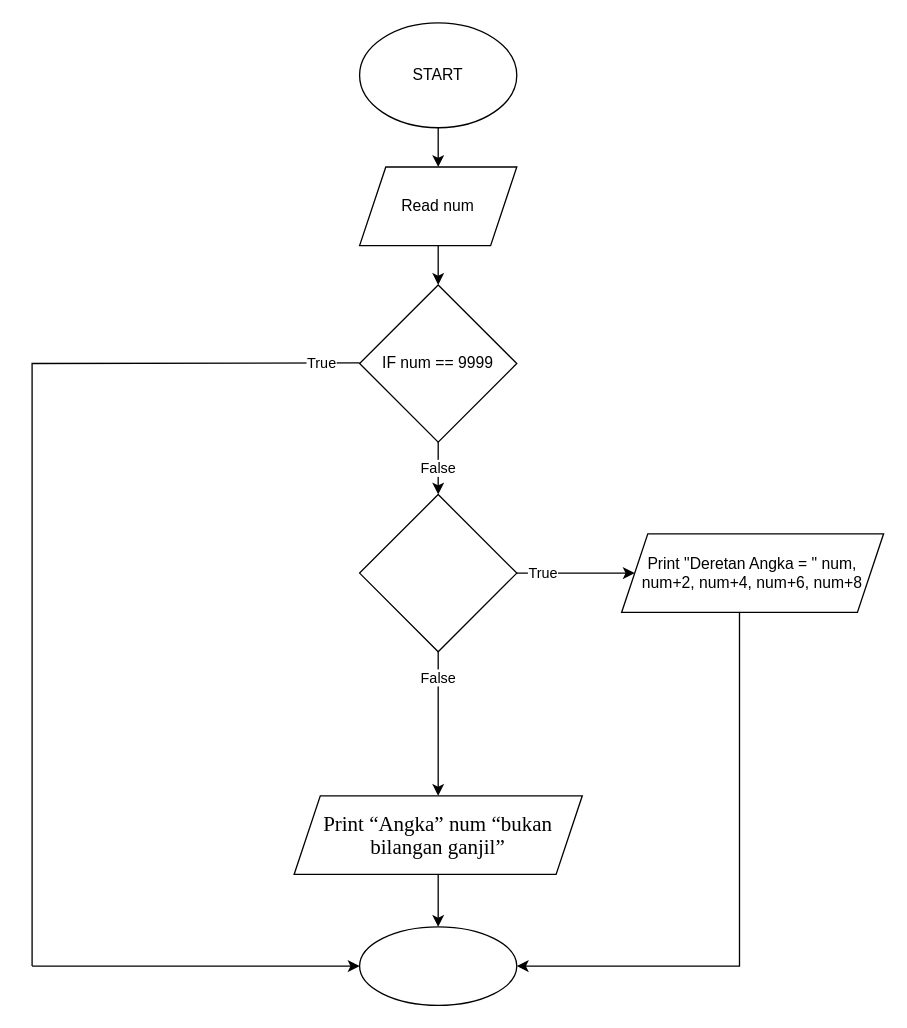
This 907x1028 diagram has some shape labels left out. Here are the shapes that lost their labels. From the top down, the centre of each, then its label:
At (x=437, y=572): "IF num % 2 == 0".
At (x=437, y=965): "END".
